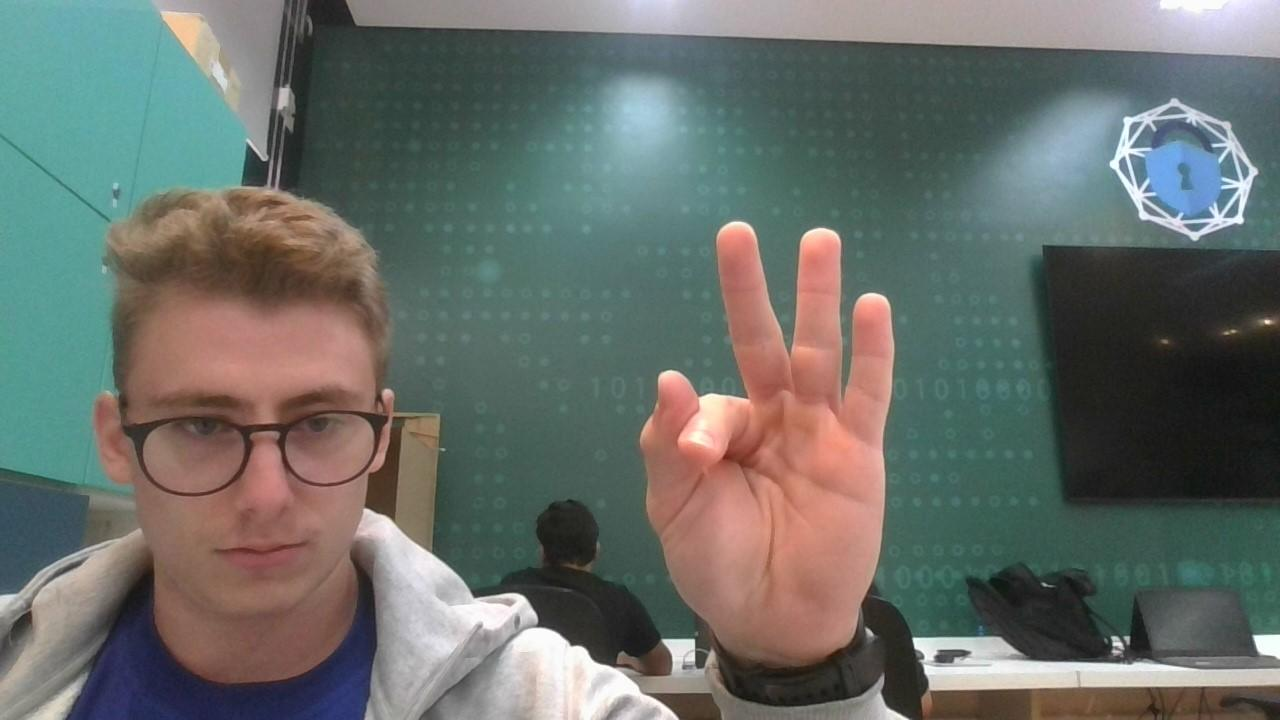F: (632, 186, 914, 668)
